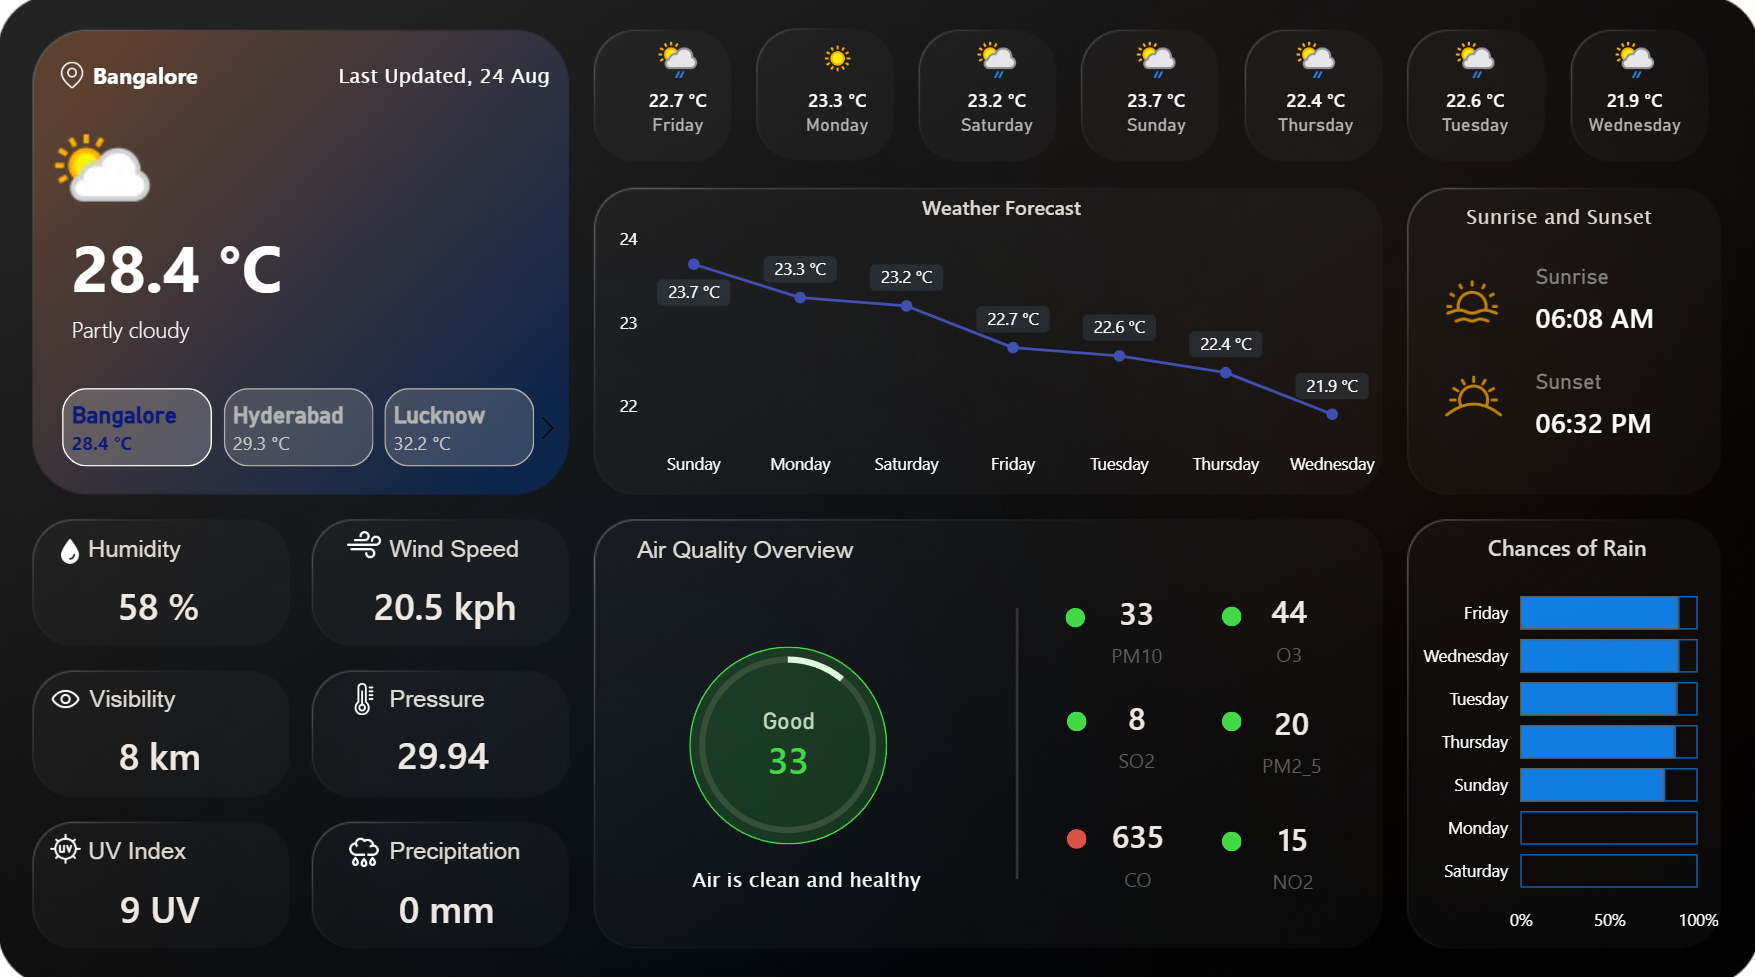

The page's visual inventory and layout, read from the dashboard file:
{"tool":"powerbi","page":{"name":"Page 1","canvas":[1280,720],"ordinal":0},"visuals":[{"type":"donutChart","fields":{"Y":["Sum(Current.current.air_quality.pm10)","Curr_Temp_C.Left_value_PM10"]},"box":[478.1,461.2,192.5,170.7],"z":0},{"type":"advancedSlicerVisual","fields":{"Values":["Locations.location.name"]},"box":[21.8,282,393.4,67.8],"z":1000},{"type":"shape","box":[53.3,144,296.6,107.7],"z":2000},{"type":"shape","box":[53.3,226.4,104.1,33.9],"z":3000},{"type":"shape","box":[69,19.4,104.1,78.7],"z":4000},{"type":"shape","box":[202.2,35.1,199.7,49.6],"z":5000},{"type":"image","box":[15.7,44.8,76.3,29.1],"z":6000},{"type":"cardVisual","fields":{"Data":["Min(Current.current.condition.icon)"]},"box":[14.5,73.8,107.7,92],"z":7000},{"type":"image","box":[36.3,391,31.5,29.1],"z":8000},{"type":"shape","title":"Sunrise and Sunset","box":[1055.6,151.3,159.8,29.1],"z":9000},{"type":"shape","title":"Visibility","box":[66.6,499.9,81.1,29.1],"z":10000},{"type":"shape","title":"UV Index","box":[65.4,611.3,81.1,29.1],"z":11000},{"type":"shape","title":"Wind Speed","box":[284.5,391,99.3,29.1],"z":12000},{"type":"shape","title":"Air Quality Overview","box":[464.8,392.2,170.7,29.1],"z":13000},{"type":"shape","title":"Precipitation","box":[284.5,611.3,99.3,29.1],"z":14000},{"type":"image","box":[32.7,496.3,32.7,32.7],"z":15000},{"type":"image","box":[32.7,604,32.7,36.3],"z":16000},{"type":"image","box":[248.2,381.3,36.3,38.7],"z":17000},{"type":"image","box":[248.2,496.3,36.3,32.7],"z":18000},{"type":"image","box":[248.2,599.2,36.3,49.6],"z":19000},{"type":"card","fields":{"Values":["Curr_Temp_C.Humidity"]},"box":[76.3,420,81.1,52.1],"z":20000},{"type":"card","fields":{"Values":["Curr_Temp_C.Wind_Speed"]},"box":[260.3,420,130.7,52.1],"z":21000},{"type":"card","fields":{"Values":["Curr_Temp_C.Visibility"]},"box":[77.5,529,81.1,52.1],"z":22000},{"type":"card","fields":{"Values":["Curr_Temp_C.UV Index"]},"box":[77.2,640.7,80.9,51.5],"z":23000},{"type":"card","fields":{"Values":["Sum(Current.current.pressure_in)"]},"box":[283,529.3,82.1,51.5],"z":24000},{"type":"card","fields":{"Values":["Curr_Temp_C.Precipitation"]},"box":[268.3,640.7,116.4,51.5],"z":25000},{"type":"advancedSlicerVisual","fields":{"Values":["Forecast_by_Day.Day_Name"]},"box":[435.4,23.5,815.2,96.5],"z":26000},{"type":"lineChart","title":"Weather Forecast","fields":{"Category":["Forecast_by_Day.Day_Name"],"Y":["Sum(Forecast_by_Day.forecast.forecastday.day.avgtemp_c)"]},"box":[446.9,144.6,565.2,215.6],"z":27000},{"type":"shape","title":"Humidity","box":[65.4,391,81.1,29.1],"z":28000},{"type":"shape","title":"Sunrise","box":[1118.5,196.1,128.3,53.3],"z":29000},{"type":"shape","title":"Sunset","box":[1118.5,272.4,128.3,53.3],"z":30000},{"type":"image","box":[1037.4,199.7,69,47.2],"z":31000},{"type":"image","box":[1039.8,260.3,66.6,65.4],"z":32000},{"type":"hundredPercentStackedBarChart","title":"Chances of Rain","fields":{"Category":["Forecast_by_Day.Day_Name"],"Y":["Sum(Forecast_by_Day.forecast.forecastday.day.daily_chance_of_rain)","Current.Left_value_Rain"]},"box":[1026.5,391,230,301.4],"z":33000},{"type":"shape","title":"Pressure","box":[284.5,499.9,81.1,29.1],"z":34000},{"type":"card","fields":{"Values":["Sum(Current.current.air_quality.pm10)"]},"box":[775.5,421.1,105.9,81.1],"z":35000},{"type":"card","fields":{"Values":["Sum(Current.current.air_quality.co)"]},"box":[776.8,583.2,105.9,81.1],"z":36000},{"type":"card","fields":{"Values":["Sum(Current.current.air_quality.pm2_5)"]},"box":[887.9,500.9,105.9,81.1],"z":37000},{"type":"card","fields":{"Values":["Sum(Current.current.air_quality.no2)"]},"box":[889.3,585.9,105.9,81.1],"z":38000},{"type":"card","fields":{"Values":["Sum(Current.current.air_quality.so2)"]},"box":[775.5,496.9,105.9,81.1],"z":39000},{"type":"card","fields":{"Values":["Sum(Current.current.air_quality.o3)"]},"box":[886.6,419.8,105.9,81.1],"z":40000},{"type":"shape","box":[776.8,445.9,14.4,14.4],"z":41000},{"type":"shape","box":[720.2,446.7,42.4,197.3],"z":42000},{"type":"shape","box":[777.1,521.7,14.5,14.5],"z":43000},{"type":"shape","box":[777.1,607.7,14.5,14.5],"z":44000},{"type":"shape","box":[889.7,445.5,14.5,14.5],"z":45000},{"type":"shape","box":[889.7,521.7,14.5,14.5],"z":46000},{"type":"shape","box":[889.7,608.9,14.5,14.5],"z":47000},{"type":"card","fields":{"Values":["Sum(Current.current.air_quality.pm10)"]},"box":[514.5,518.1,121,60.5],"z":48000},{"type":"shape","box":[502.4,474.5,144,144],"z":49000},{"type":"shape","box":[473.3,614.9,197.3,60.5],"z":50000}]}

Visuals, with their boxes in screenshot pixels (x1, y1, x2, y2), scaled from the page's 1280x720 canvas onto the 1755x977 screenshot:
donutChart - Sum(Current.current.air_quality.pm10) x Curr_Temp_C.Left_value_PM10: {"left": 656, "top": 626, "right": 919, "bottom": 857}
advancedSlicerVisual - Locations.location.name: {"left": 30, "top": 383, "right": 569, "bottom": 475}
shape: {"left": 73, "top": 195, "right": 480, "bottom": 342}
shape: {"left": 73, "top": 307, "right": 216, "bottom": 353}
shape: {"left": 95, "top": 26, "right": 237, "bottom": 133}
shape: {"left": 277, "top": 48, "right": 551, "bottom": 115}
image: {"left": 22, "top": 61, "right": 126, "bottom": 100}
cardVisual - Min(Current.current.condition.icon): {"left": 20, "top": 100, "right": 168, "bottom": 225}
image: {"left": 50, "top": 531, "right": 93, "bottom": 570}
"Sunrise and Sunset" shape: {"left": 1447, "top": 205, "right": 1666, "bottom": 245}
"Visibility" shape: {"left": 91, "top": 678, "right": 203, "bottom": 718}
"UV Index" shape: {"left": 90, "top": 830, "right": 201, "bottom": 869}
"Wind Speed" shape: {"left": 390, "top": 531, "right": 526, "bottom": 570}
"Air Quality Overview" shape: {"left": 637, "top": 532, "right": 871, "bottom": 572}
"Precipitation" shape: {"left": 390, "top": 830, "right": 526, "bottom": 869}
image: {"left": 45, "top": 673, "right": 90, "bottom": 718}
image: {"left": 45, "top": 820, "right": 90, "bottom": 869}
image: {"left": 340, "top": 517, "right": 390, "bottom": 570}
image: {"left": 340, "top": 673, "right": 390, "bottom": 718}
image: {"left": 340, "top": 813, "right": 390, "bottom": 880}
card - Curr_Temp_C.Humidity: {"left": 105, "top": 570, "right": 216, "bottom": 641}
card - Curr_Temp_C.Wind_Speed: {"left": 357, "top": 570, "right": 536, "bottom": 641}
card - Curr_Temp_C.Visibility: {"left": 106, "top": 718, "right": 217, "bottom": 789}
card - Curr_Temp_C.UV Index: {"left": 106, "top": 869, "right": 217, "bottom": 939}
card - Sum(Current.current.pressure_in): {"left": 388, "top": 718, "right": 501, "bottom": 788}
card - Curr_Temp_C.Precipitation: {"left": 368, "top": 869, "right": 527, "bottom": 939}
advancedSlicerVisual - Forecast_by_Day.Day_Name: {"left": 597, "top": 32, "right": 1715, "bottom": 163}
"Weather Forecast" lineChart: {"left": 613, "top": 196, "right": 1388, "bottom": 489}
"Humidity" shape: {"left": 90, "top": 531, "right": 201, "bottom": 570}
"Sunrise" shape: {"left": 1534, "top": 266, "right": 1709, "bottom": 338}
"Sunset" shape: {"left": 1534, "top": 370, "right": 1709, "bottom": 442}
image: {"left": 1422, "top": 271, "right": 1517, "bottom": 335}
image: {"left": 1426, "top": 353, "right": 1517, "bottom": 442}
"Chances of Rain" hundredPercentStackedBarChart: {"left": 1407, "top": 531, "right": 1723, "bottom": 940}
"Pressure" shape: {"left": 390, "top": 678, "right": 501, "bottom": 718}
card - Sum(Current.current.air_quality.pm10): {"left": 1063, "top": 571, "right": 1208, "bottom": 681}
card - Sum(Current.current.air_quality.co): {"left": 1065, "top": 791, "right": 1210, "bottom": 901}
card - Sum(Current.current.air_quality.pm2_5): {"left": 1217, "top": 680, "right": 1363, "bottom": 790}
card - Sum(Current.current.air_quality.no2): {"left": 1219, "top": 795, "right": 1365, "bottom": 905}
card - Sum(Current.current.air_quality.so2): {"left": 1063, "top": 674, "right": 1208, "bottom": 784}
card - Sum(Current.current.air_quality.o3): {"left": 1216, "top": 570, "right": 1361, "bottom": 680}
shape: {"left": 1065, "top": 605, "right": 1085, "bottom": 625}
shape: {"left": 987, "top": 606, "right": 1046, "bottom": 874}
shape: {"left": 1065, "top": 708, "right": 1085, "bottom": 728}
shape: {"left": 1065, "top": 825, "right": 1085, "bottom": 844}
shape: {"left": 1220, "top": 605, "right": 1240, "bottom": 624}
shape: {"left": 1220, "top": 708, "right": 1240, "bottom": 728}
shape: {"left": 1220, "top": 826, "right": 1240, "bottom": 846}
card - Sum(Current.current.air_quality.pm10): {"left": 705, "top": 703, "right": 871, "bottom": 785}
shape: {"left": 689, "top": 644, "right": 886, "bottom": 839}
shape: {"left": 649, "top": 834, "right": 919, "bottom": 916}
